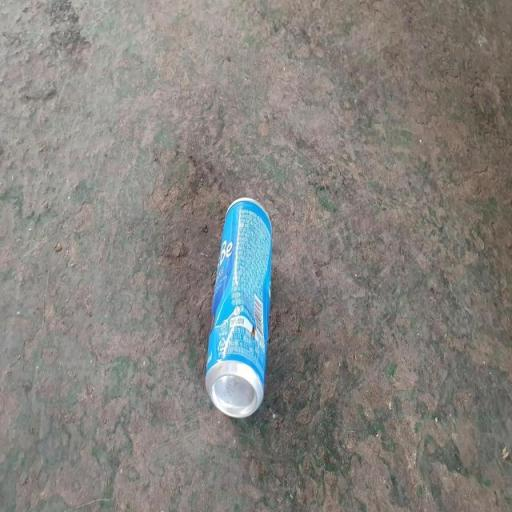metal: (188, 186, 300, 429)
